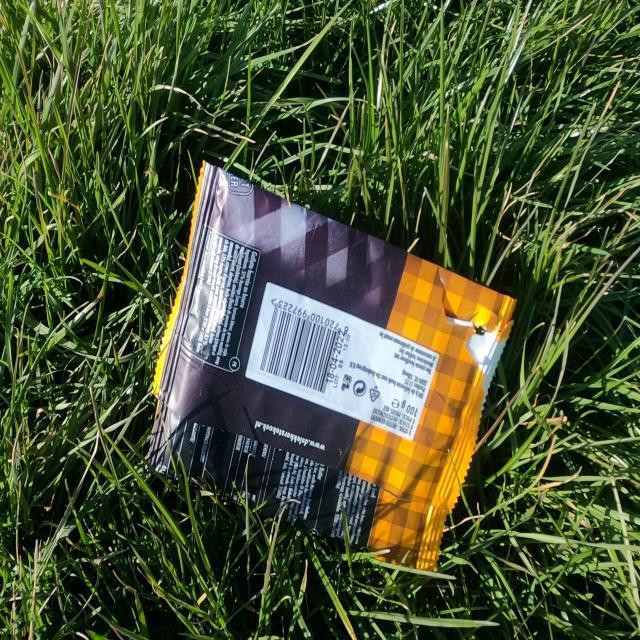Plastic: (146, 158, 521, 578)
